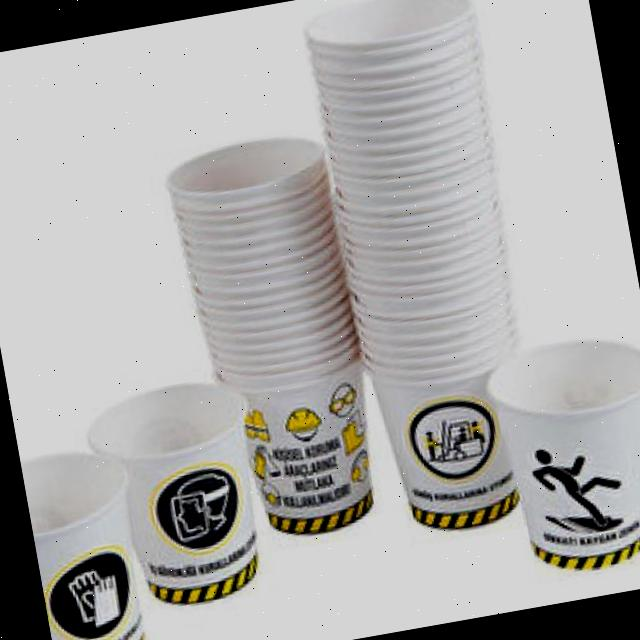trash: (75, 376, 294, 627), (488, 322, 640, 603), (17, 426, 155, 640)
